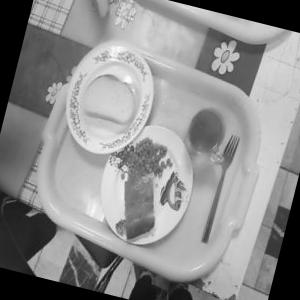bread: (72, 63, 148, 132)
casserole: (91, 135, 197, 252)
tea: (172, 87, 244, 170)
